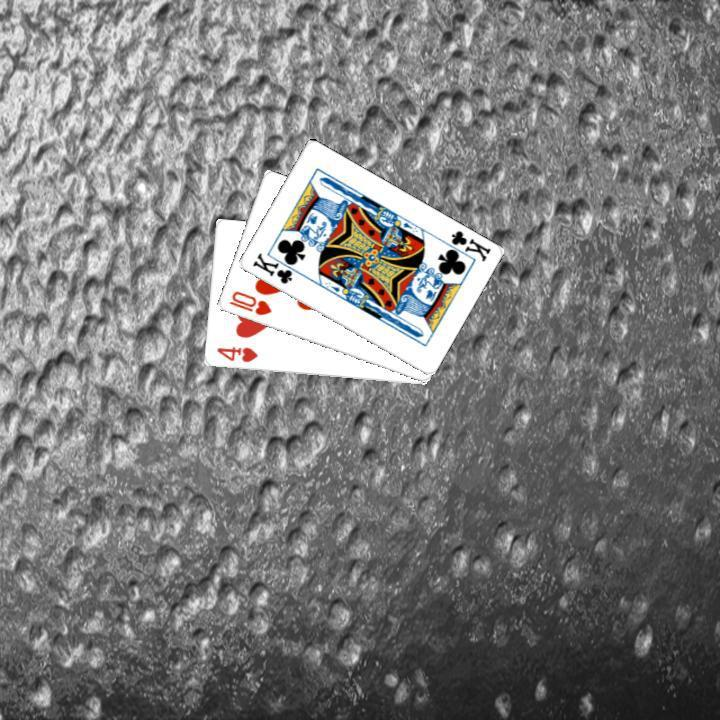10: (225, 287, 273, 318)
4: (212, 342, 259, 365)
K: (437, 226, 492, 264), (248, 248, 302, 286)
